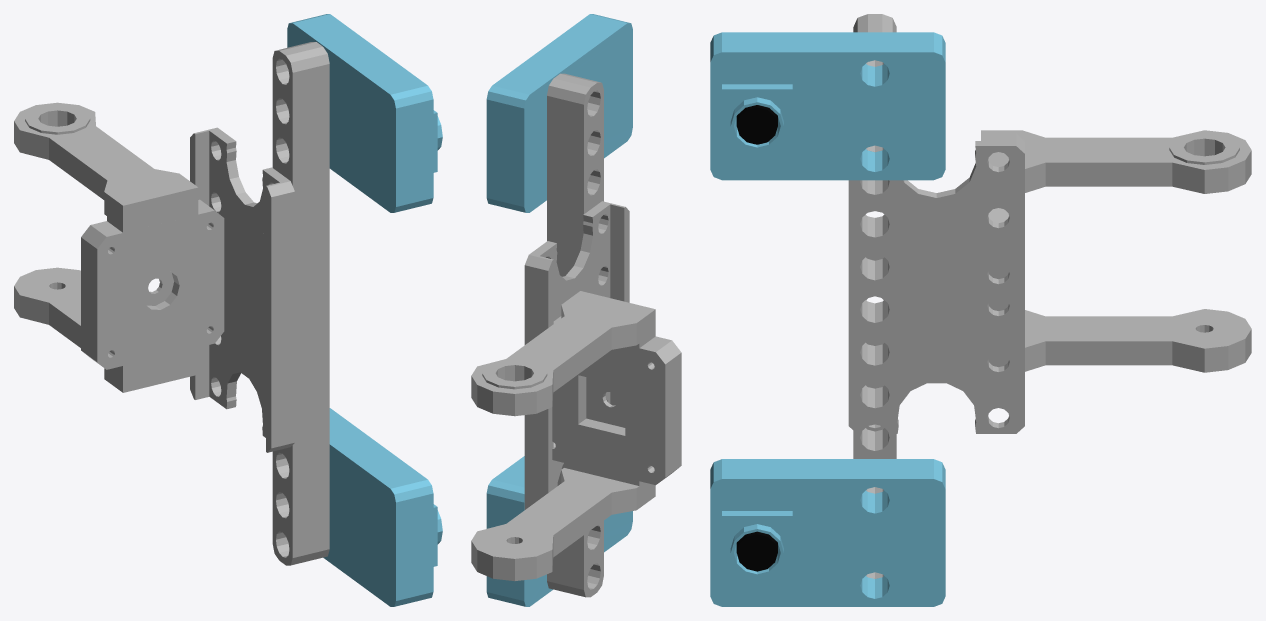
File: head-neck-p_mesh.glb
3 renders of one model, left to right at view 1: azimuth 30°, elevation 25°; view 2: azimuth 150°, elevation 25°; view 3: azimuth 270°, elevation 25°, orthographic. The views are drawn at different scales.
Parts seen in each view (by area): view 1: base2_M1KShape4, base2_M1KShape3, base2_M1KShape0, base2_M1KShape5, base2_M1KShape7, base2_M1KShape2, base2_M1KShape1; view 2: base2_M1KShape5, base2_M1KShape0, base2_M1KShape4, base2_M1KShape2, base2_M1KShape3, base2_M1KShape1, base2_M1KShape7; view 3: base2_M1KShape5, base2_M1KShape7, base2_M1KShape3, base2_M1KShape4, base2_M1KShape2, base2_M1KShape1, base2_M1KShape6, base2_M1KShape8, base2_M1KShape0.
Boxes of the visible parts, <box> form: base2_M1KShape4: <box>272,42,329,565</box>; base2_M1KShape3: <box>190,127,294,452</box>; base2_M1KShape0: <box>81,199,224,369</box>; base2_M1KShape5: <box>287,14,442,212</box>; base2_M1KShape7: <box>323,408,442,606</box>; base2_M1KShape2: <box>14,102,198,232</box>; base2_M1KShape1: <box>14,267,198,392</box>; base2_M1KShape5: <box>486,14,632,212</box>; base2_M1KShape0: <box>552,316,681,485</box>; base2_M1KShape4: <box>547,73,603,597</box>; base2_M1KShape2: <box>471,291,655,416</box>; base2_M1KShape3: <box>524,201,629,509</box>; base2_M1KShape1: <box>471,463,655,581</box>; base2_M1KShape7: <box>486,456,632,606</box>; base2_M1KShape5: <box>710,32,945,180</box>; base2_M1KShape7: <box>710,459,945,606</box>; base2_M1KShape3: <box>848,133,1024,433</box>; base2_M1KShape4: <box>853,14,896,578</box>; base2_M1KShape2: <box>981,130,1251,193</box>; base2_M1KShape1: <box>988,309,1251,372</box>; base2_M1KShape6: <box>736,105,777,144</box>; base2_M1KShape8: <box>736,531,777,571</box>; base2_M1KShape0: <box>988,208,1008,310</box>.
Bounding box in the file's own units: 0.0489 × 0.104 × 0.092.
